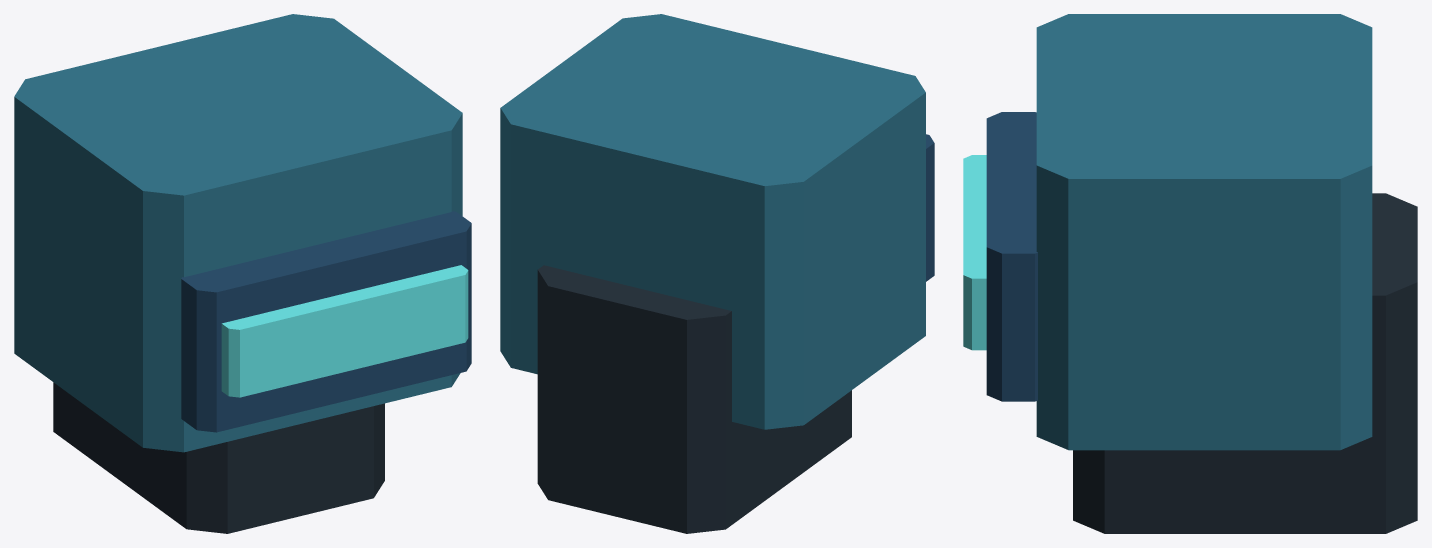
Rendered from enemy_marksman_lod_head.obj.
3 renders of one model, left to right at view 1: azimuth 30°, elevation 25°; view 2: azimuth 150°, elevation 25°; view 3: azimuth 270°, elevation 25°, orthographic. The views are drawn at different scales.
Size of the model in its own units: 0.43 by 0.47 by 0.501.
